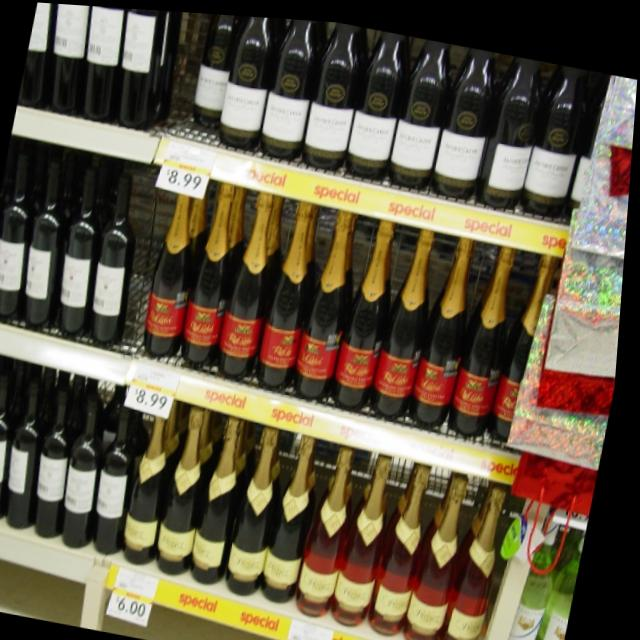q202: (444, 239, 536, 443), (408, 225, 492, 429), (331, 210, 416, 411), (295, 205, 375, 398), (370, 224, 452, 411), (256, 193, 333, 392), (491, 241, 566, 432), (179, 175, 250, 372), (136, 181, 210, 363), (218, 187, 289, 375)
